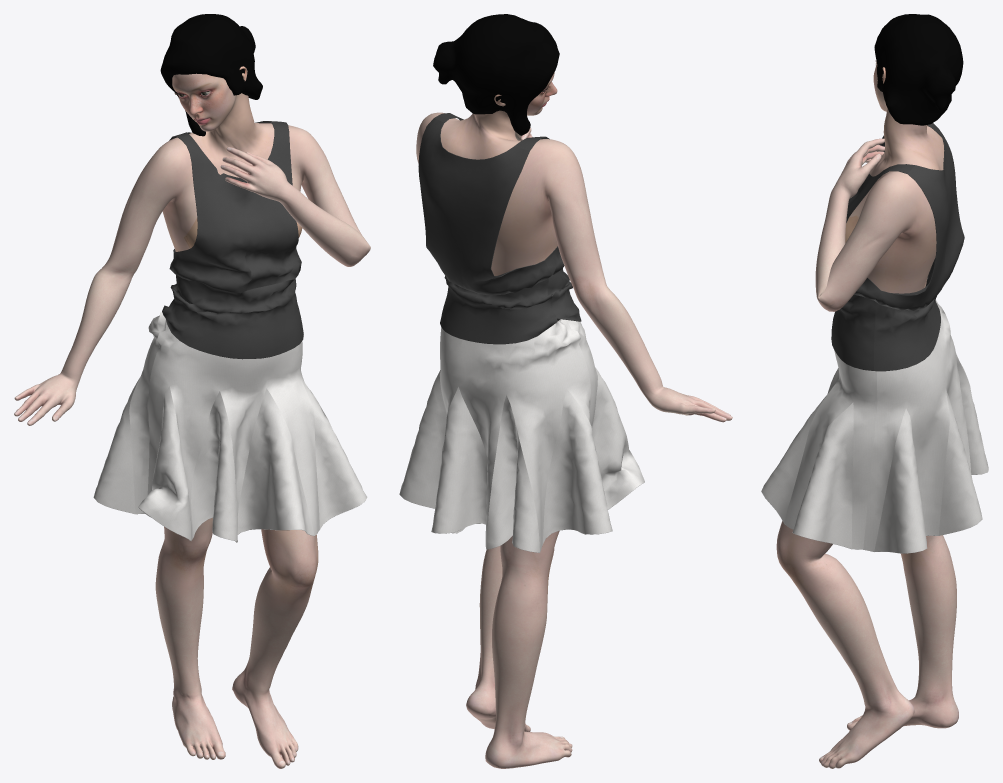
The model's file is Custom_View_6__Dramatic.obj.
The picture shows the model from 3 angles, left to right: view 1: azimuth 30°, elevation 25°; view 2: azimuth 150°, elevation 25°; view 3: azimuth 270°, elevation 25°; orthographic projection. The views are drawn at different scales.
Bounding box in the file's own units: 813 × 1767 × 497.
